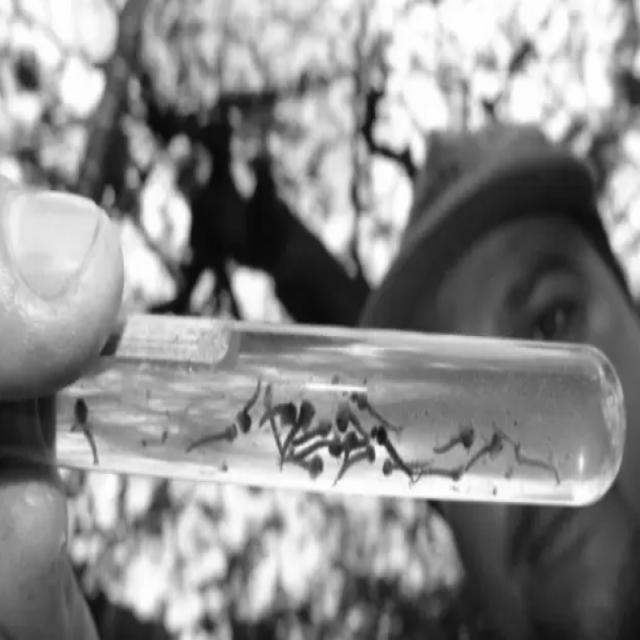larvas: (277, 398, 316, 462), (350, 392, 402, 427), (73, 398, 98, 463), (513, 454, 561, 482), (466, 436, 502, 473), (237, 378, 261, 432), (433, 421, 476, 451), (189, 426, 236, 451), (370, 428, 403, 461), (338, 435, 361, 480), (264, 387, 279, 447), (299, 419, 330, 445), (336, 405, 364, 431), (382, 461, 432, 475), (259, 406, 294, 426), (495, 419, 519, 448), (301, 440, 339, 456), (142, 431, 170, 451), (294, 458, 326, 474), (420, 468, 463, 479), (351, 448, 377, 464)
